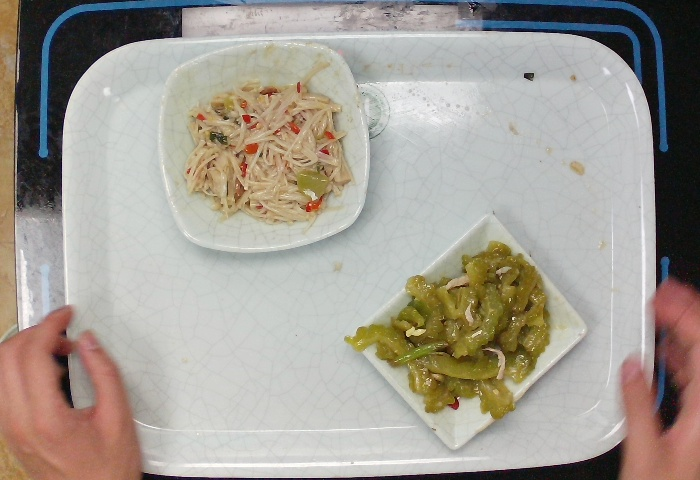WCQzf-Da_Si_Fang_Die: (152, 34, 376, 255)
WCQzf-Ru_Ci_Si_Fang_Die: (351, 211, 584, 452)
